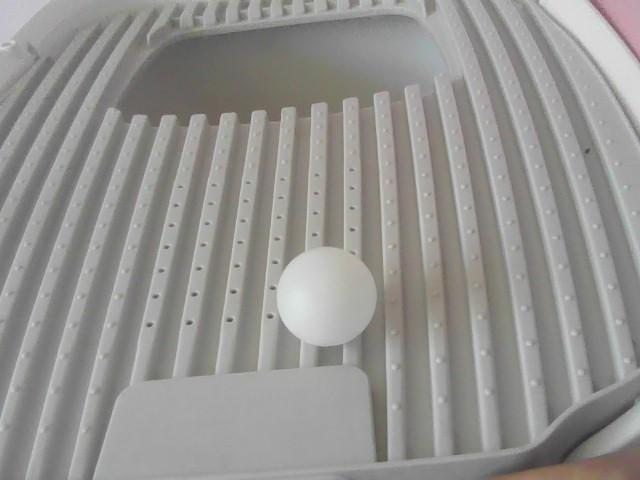ball: (275, 244, 377, 347)
